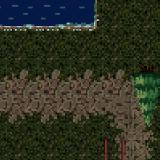Interaction: (0, 18, 106, 38), (98, 134, 131, 160), (90, 0, 106, 19)
Obstacle: (130, 61, 160, 94)
Slow: (0, 0, 92, 22)
